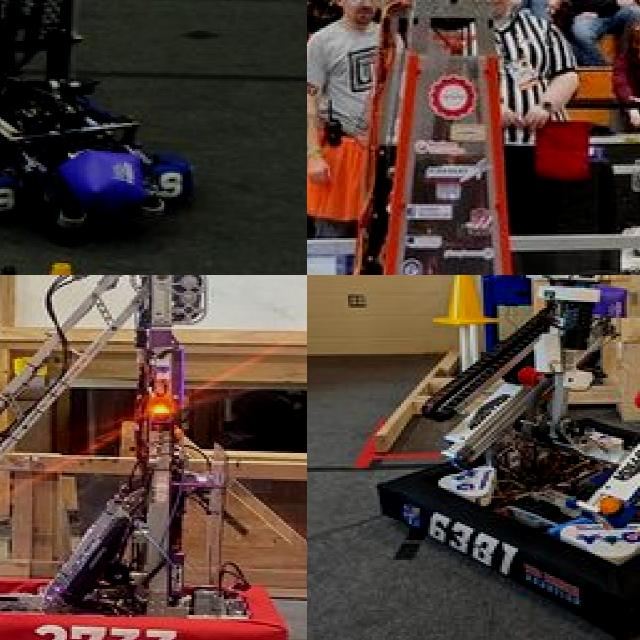FRC-Robots: (0, 275, 307, 640), (355, 275, 640, 640), (307, 0, 640, 275), (0, 0, 233, 237)
